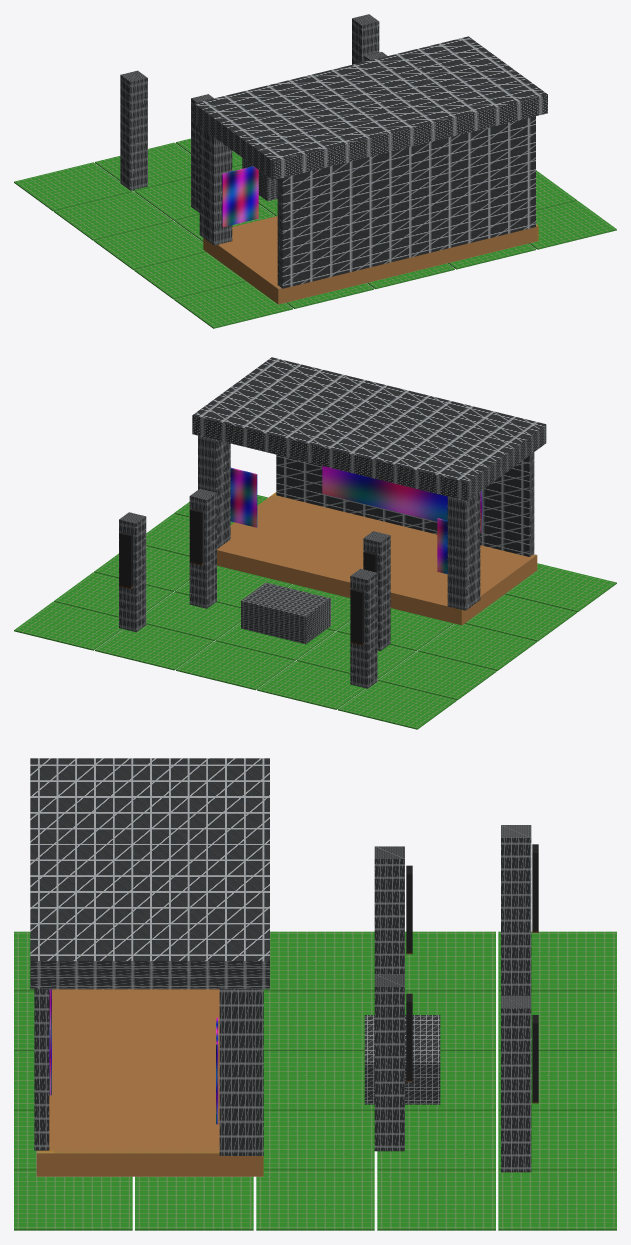
3 renders of one model, top to bottom at view 1: azimuth 30°, elevation 25°; view 2: azimuth 150°, elevation 25°; view 3: azimuth 270°, elevation 25°, orthographic. The views are drawn at different scales.
Visible parts, largest first — view 1: 28185_B13_Moonlight_Festival_Park; view 2: 28185_B13_Moonlight_Festival_Park; view 3: 28185_B13_Moonlight_Festival_Park.
Part boxes in pixels (left/top/right/bottom): 28185_B13_Moonlight_Festival_Park: left=14, top=14, right=616, bottom=328; 28185_B13_Moonlight_Festival_Park: left=14, top=357, right=616, bottom=729; 28185_B13_Moonlight_Festival_Park: left=14, top=758, right=616, bottom=1230.
Bounding box in the file's own units: 55.8 × 19.5 × 47.8.
1 material, 1 textured.
